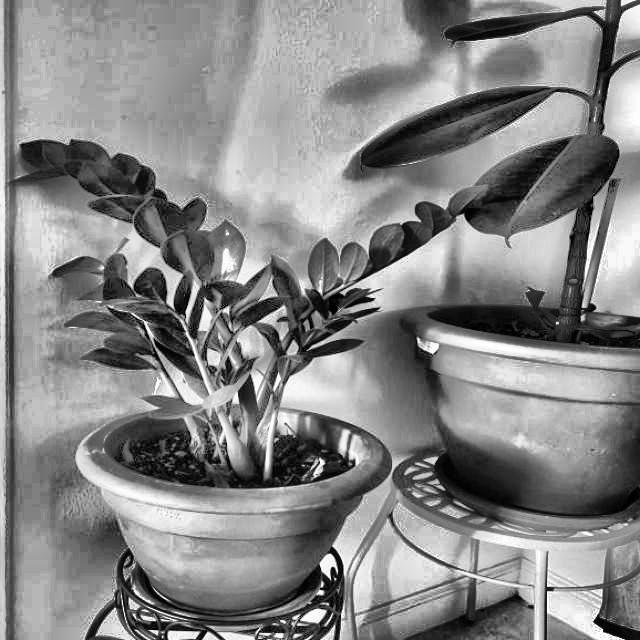plants: (0, 92, 424, 640), (357, 0, 640, 561)
